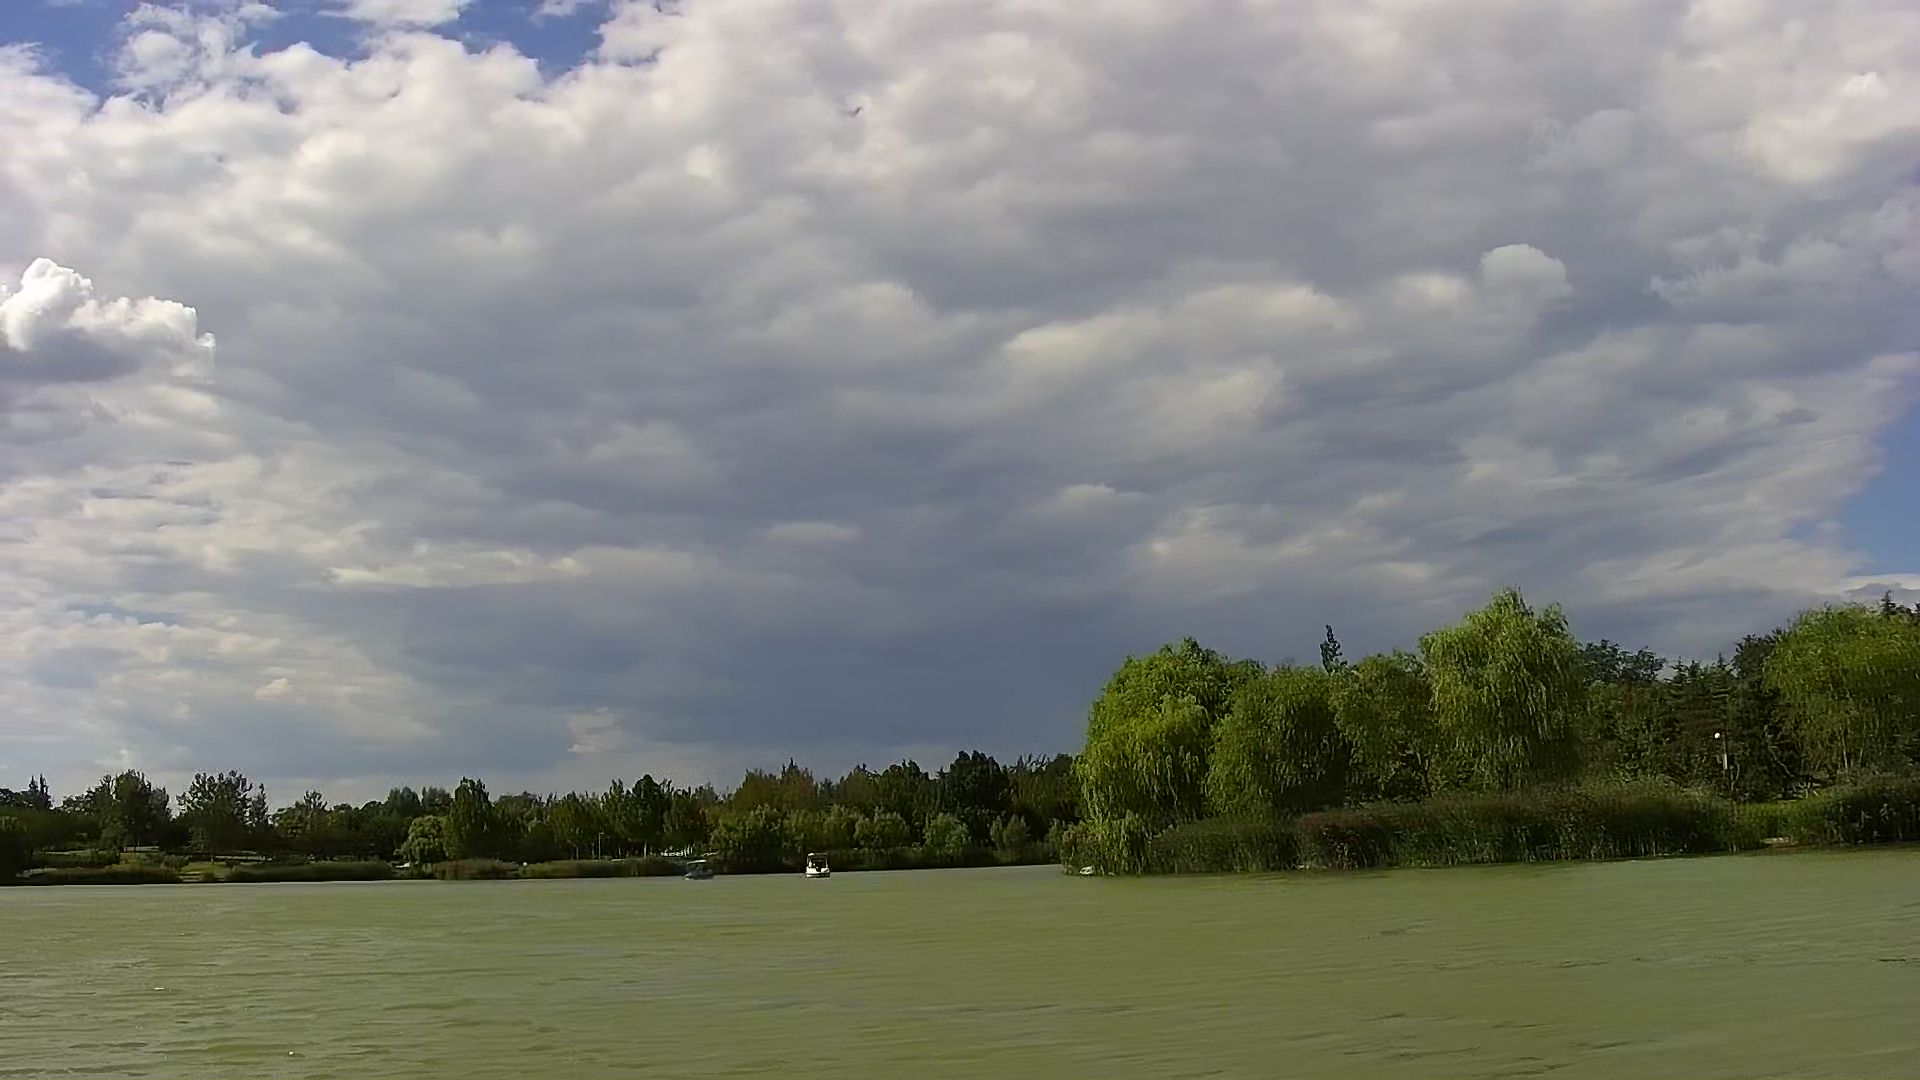boat: (686, 856, 708, 880), (804, 849, 825, 868)
